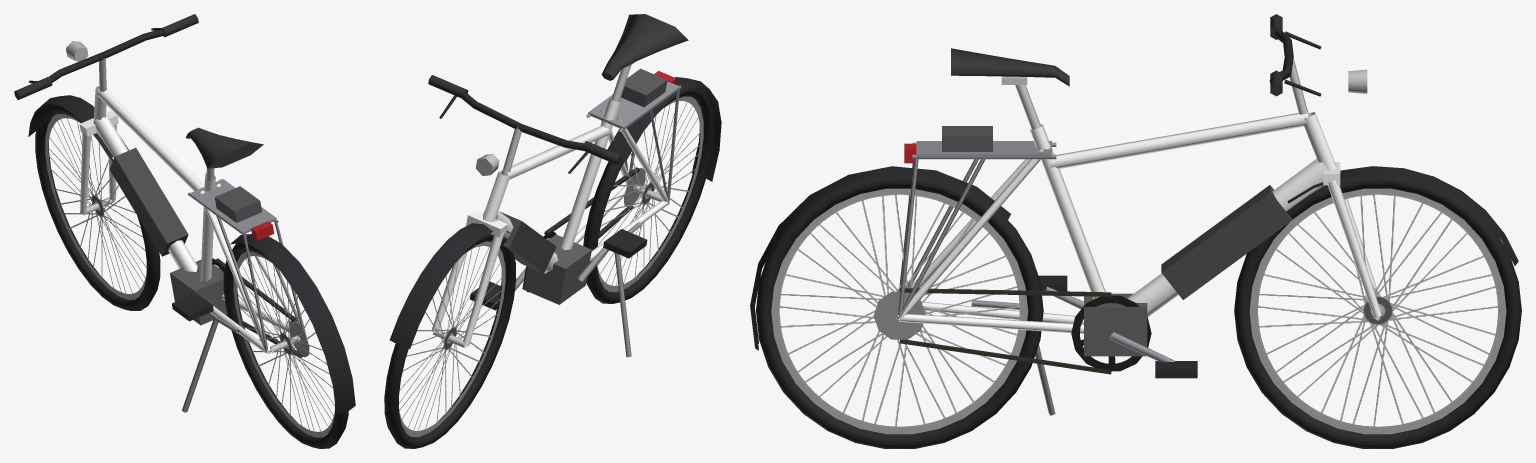
The model's file is ebike_lean.glb.
3 renders of one model, left to right at view 1: azimuth 30°, elevation 25°; view 2: azimuth 150°, elevation 25°; view 3: azimuth 270°, elevation 25°, orthographic. The views are drawn at different scales.
Visible parts, largest first — view 1: bike; view 2: bike; view 3: bike.
Part boxes in pixels (x1=…): bike: x1=14, y1=14, x2=355, y2=448; bike: x1=384, y1=14, x2=721, y2=448; bike: x1=750, y1=14, x2=1521, y2=448.
Size of the model in its own units: 0.6262 by 1.02 by 1.82.
1 material, 1 textured.
